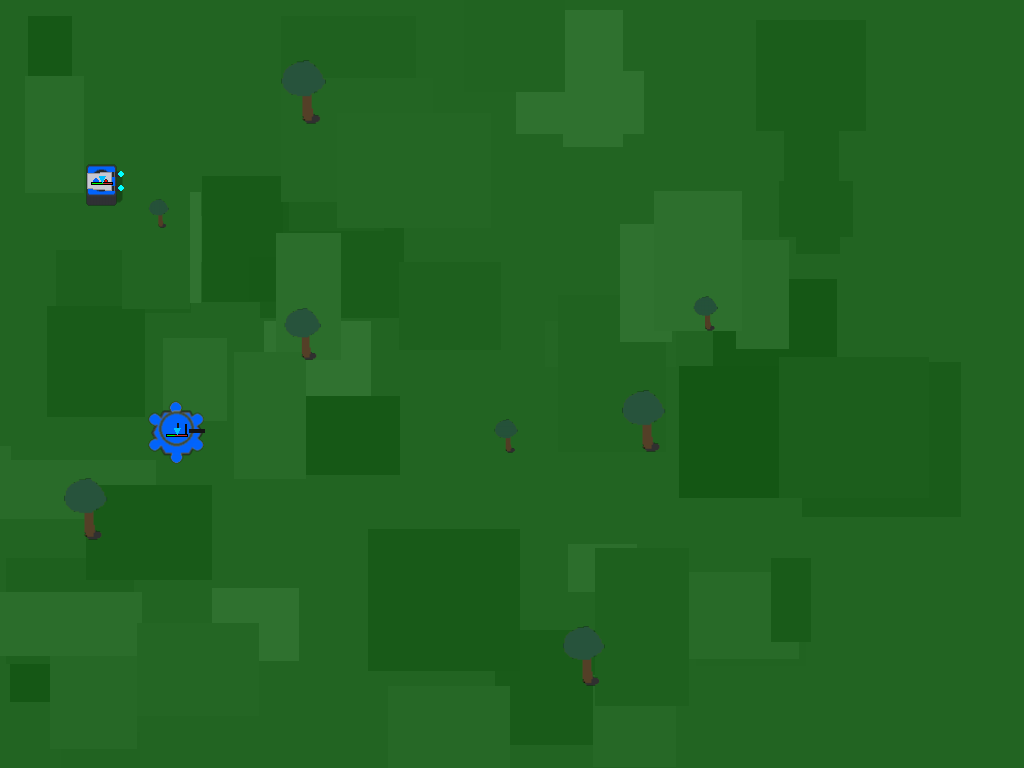AntiAirTurret: (77, 155, 127, 205)
Bunker: (144, 400, 209, 465)
